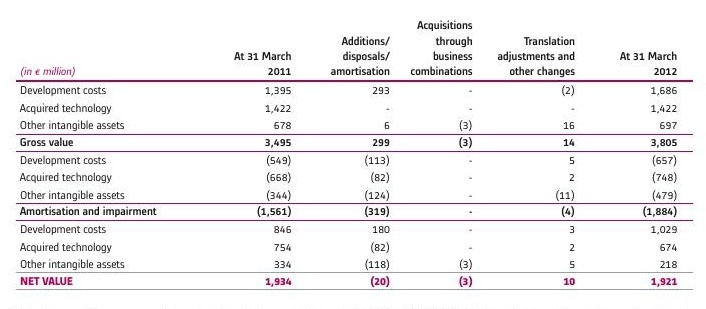table: (0, 0, 706, 309)
